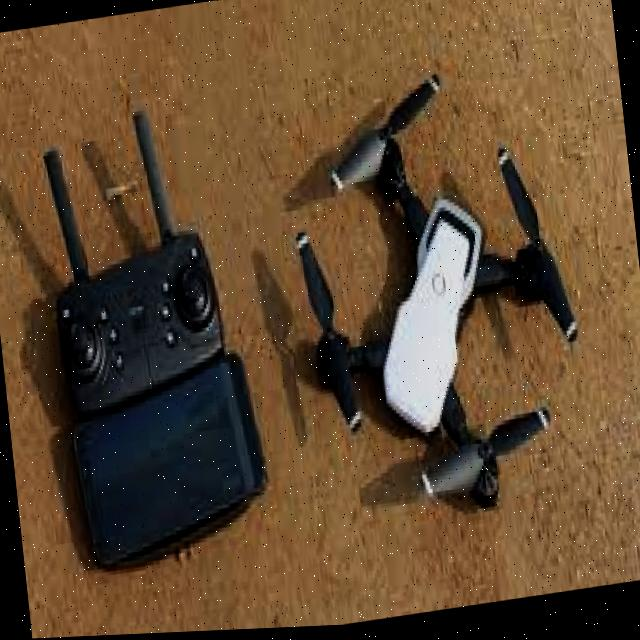drone: (259, 47, 620, 545)
